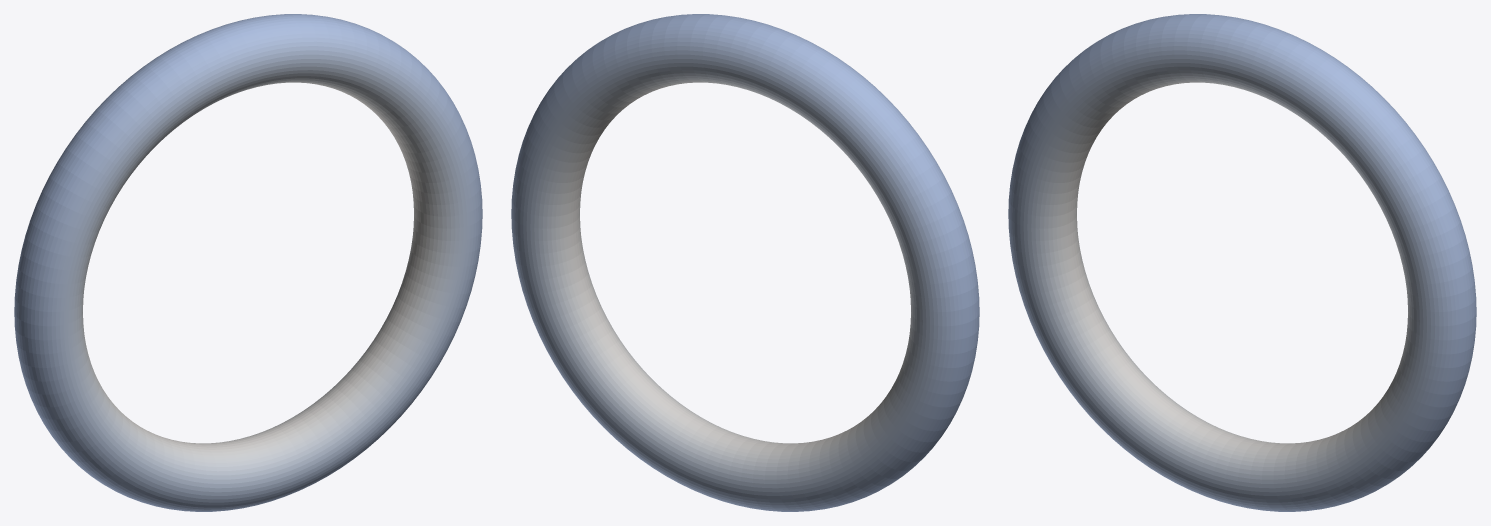
3 renders of one model, left to right at view 1: azimuth 30°, elevation 25°; view 2: azimuth 150°, elevation 25°; view 3: azimuth 330°, elevation 25°, orthographic.
Visible parts, largest first — view 1: world; view 2: world; view 3: world.
Part boxes in pixels (x1,y1,x2,y2): world: [14, 14, 482, 511]; world: [511, 14, 979, 511]; world: [1008, 14, 1476, 511].
Size of the model in its own units: 29.87 by 29.87 by 3.86.
